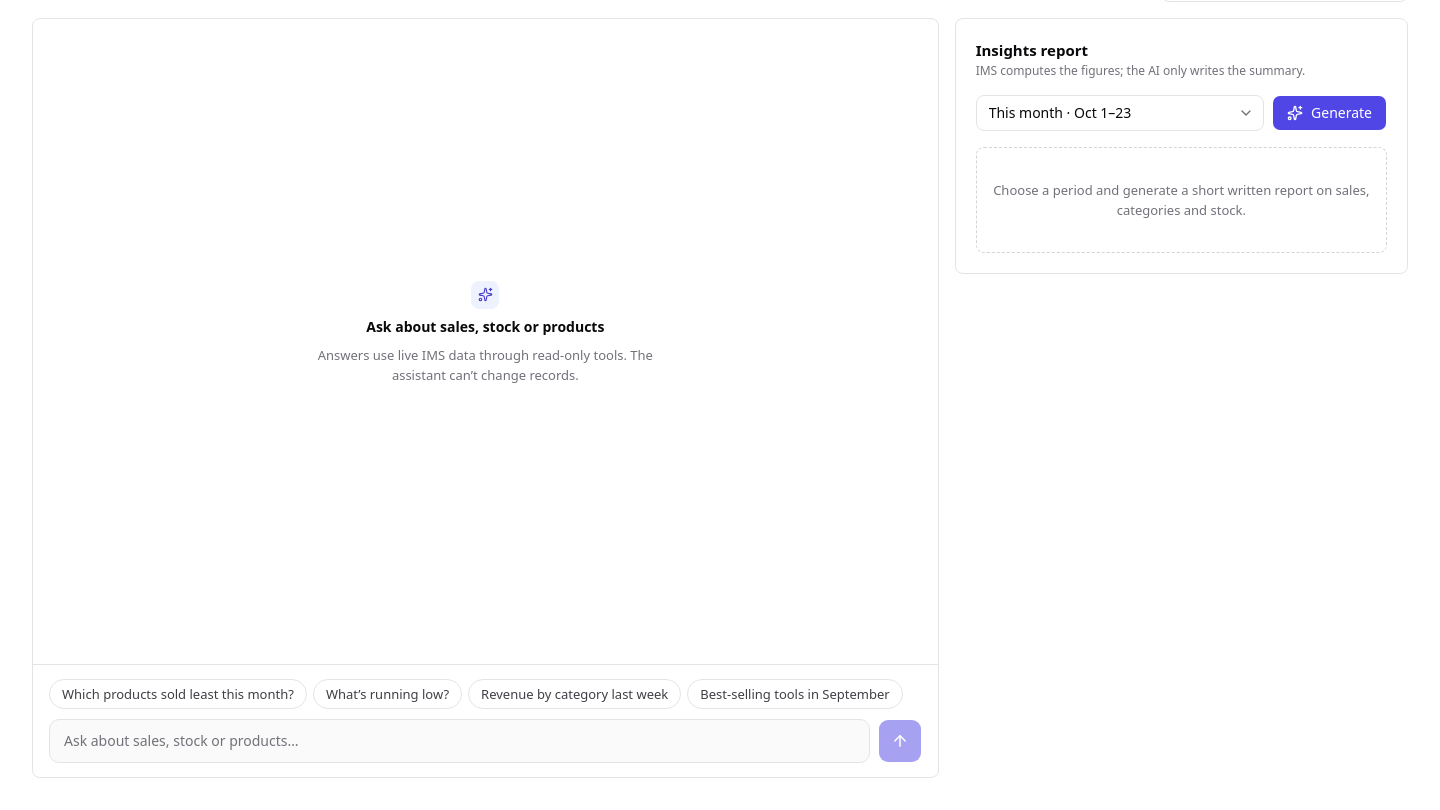
Scenario: AssistantPage (M8) › hides "Data used" when the answer used no tools
This screenshot has width=1440, height=810.
(page scrolled)
Type "Weather?" into the text box labelled "Ask about sales, stock or products…" at (459, 741), box [49,719,870,763]
Then press Enter
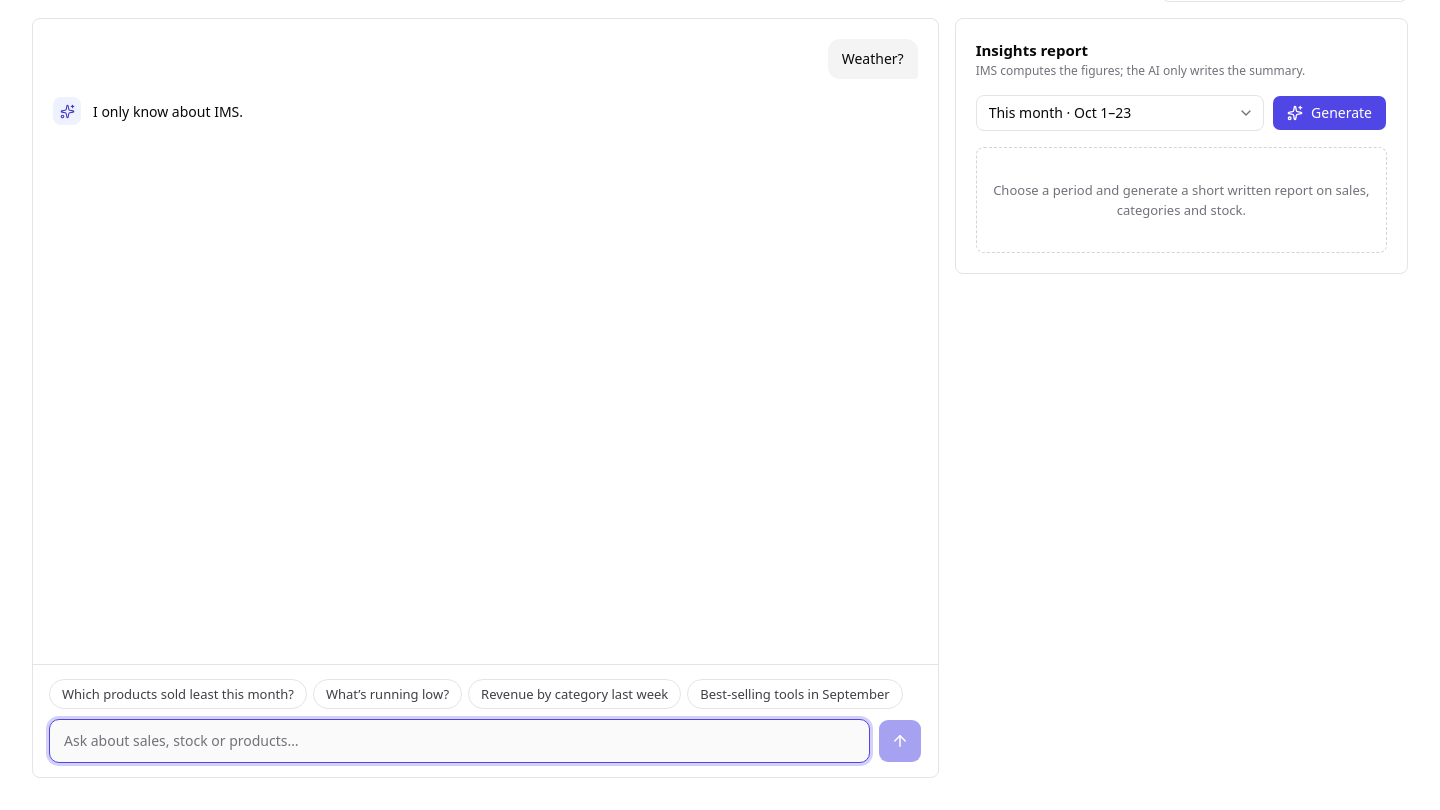
expect the text "I only know about IMS." is shown: met, box [93,101,243,123]
